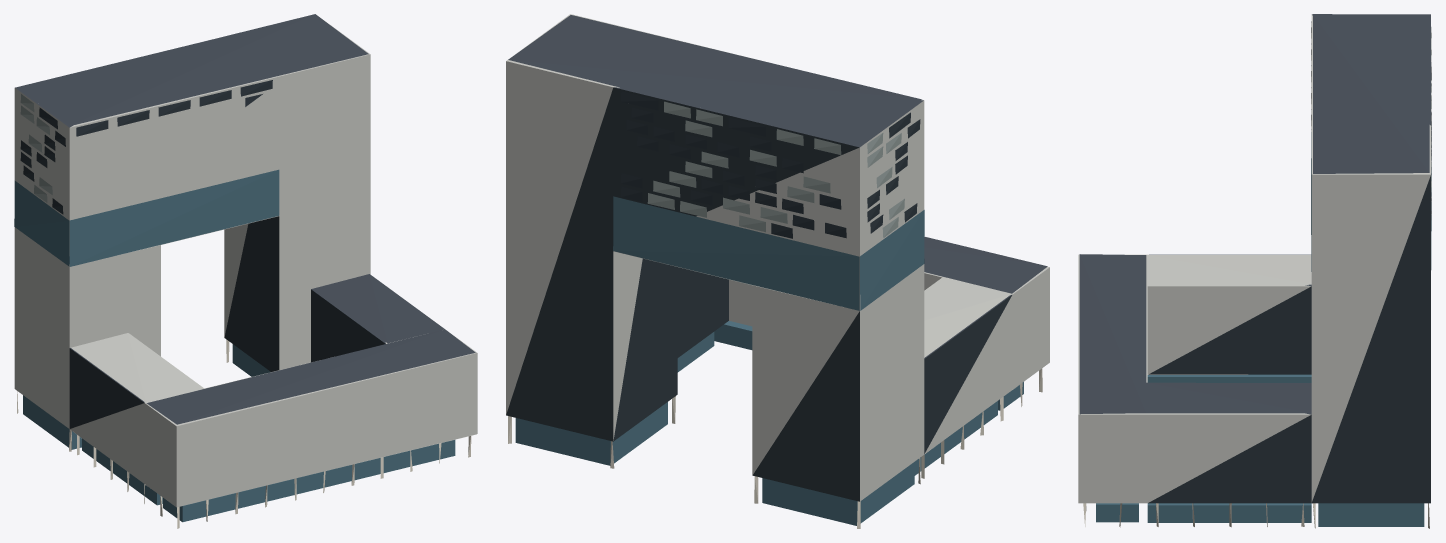
File: pontsteiger.lod2.glb
3 views of the same model, side by side, from view 1: azimuth 30°, elevation 25°; view 2: azimuth 150°, elevation 25°; view 3: azimuth 270°, elevation 25° (orthographic). The views are drawn at different scales.
Visible parts, largest first — view 1: lod2; view 2: lod2; view 3: lod2.
Boxes of the visible parts, bbox=[...] form: lod2: bbox=[14, 14, 477, 528]; lod2: bbox=[506, 14, 1049, 528]; lod2: bbox=[1078, 14, 1431, 528].
Bounding box in the file's own units: 85.82 × 88.85 × 79.88.
